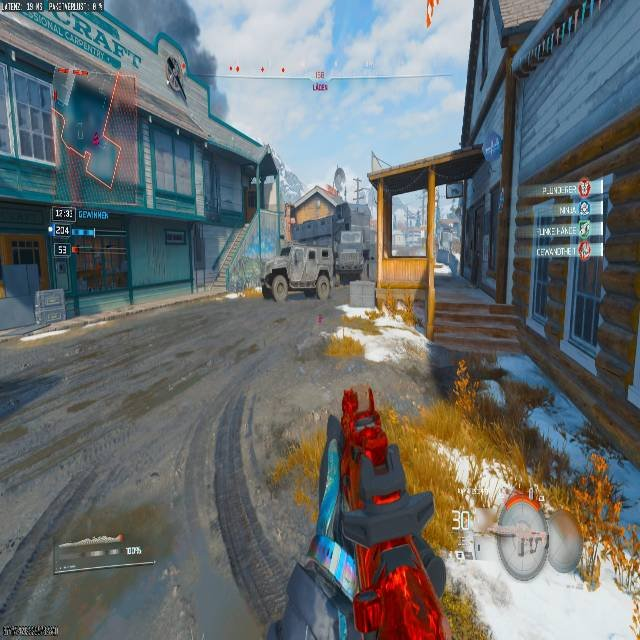player: (437, 214, 460, 275), (262, 264, 291, 303)
